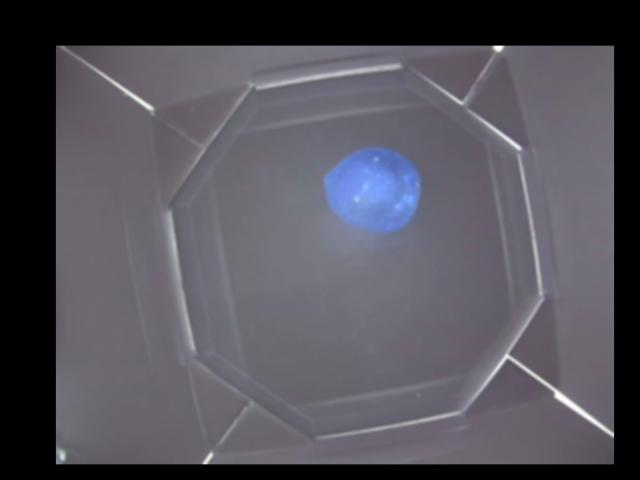Potato: (321, 148, 418, 231)
